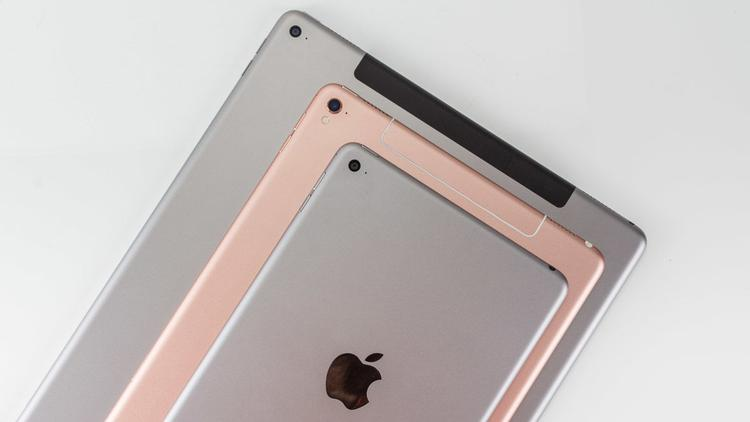apple: (314, 334, 406, 422)
